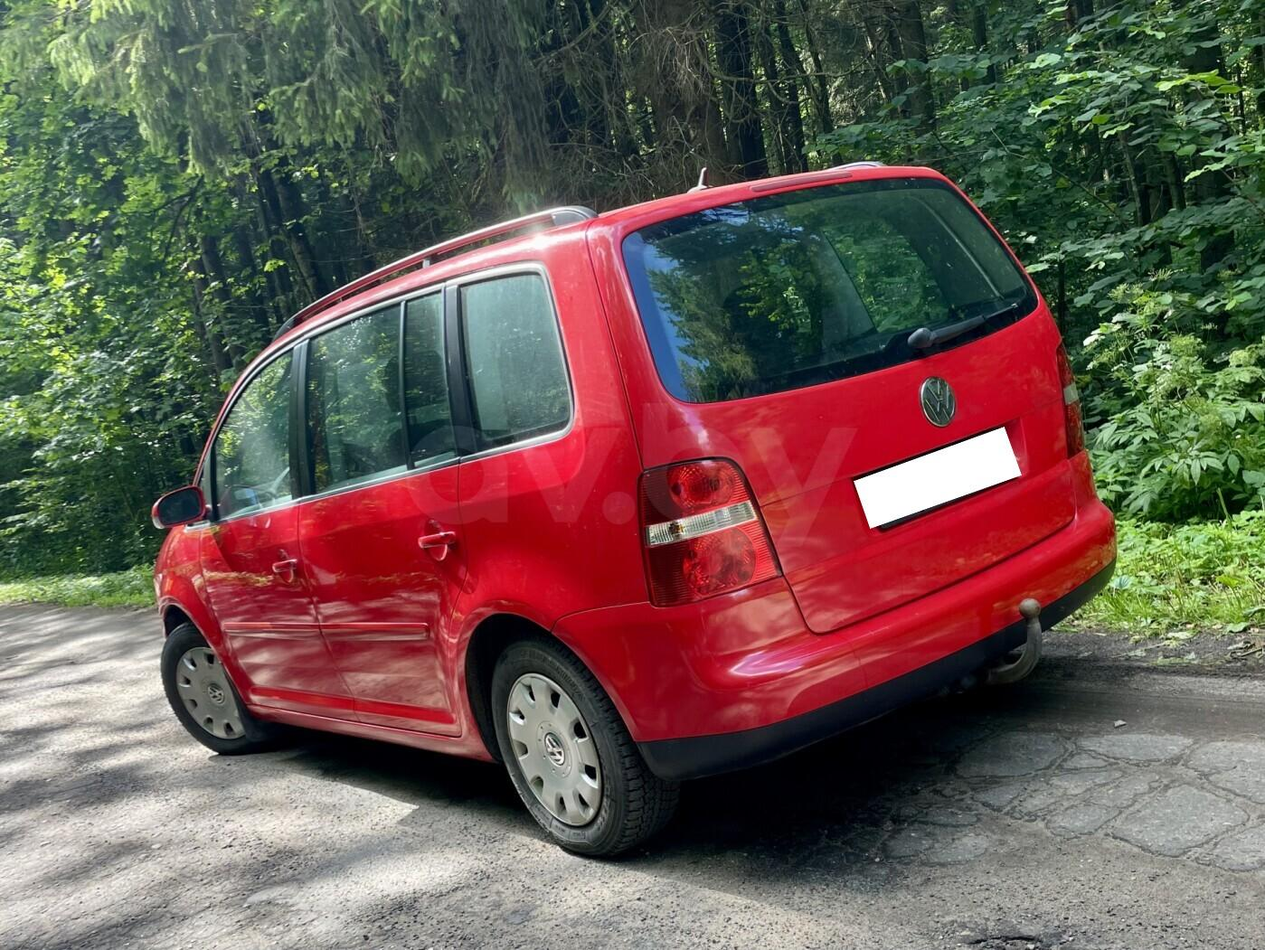Touran_2003-2006: (145, 161, 1129, 842)
